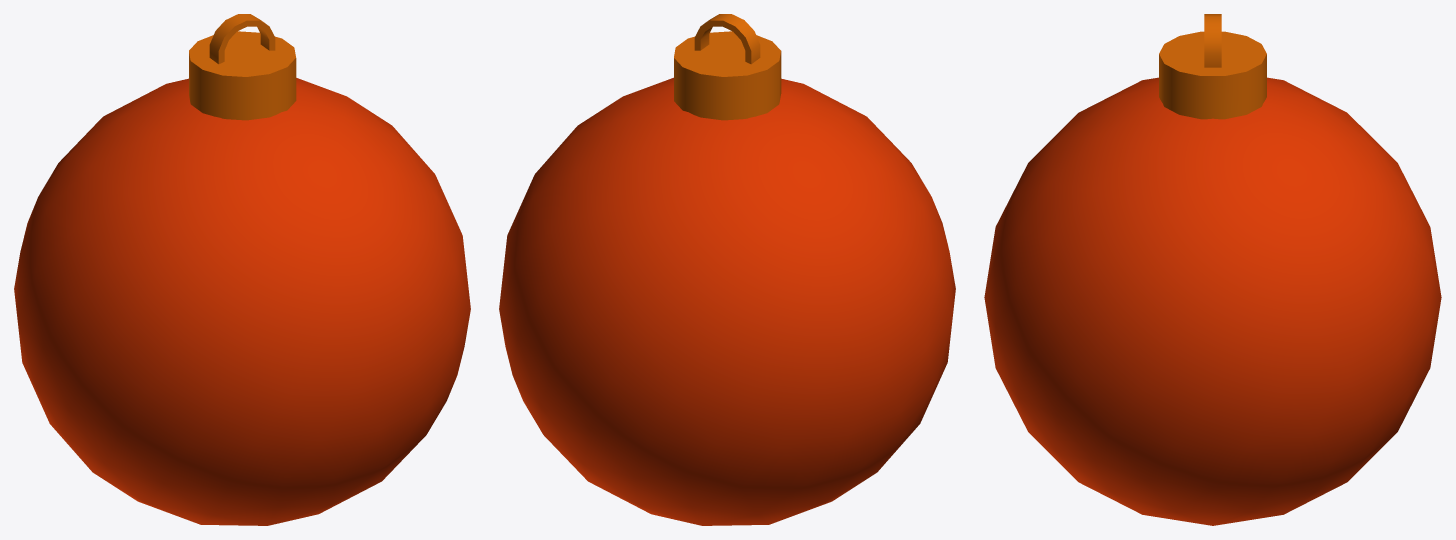
File: ball.glb
The picture shows the model from 3 angles, left to right: view 1: azimuth 30°, elevation 25°; view 2: azimuth 150°, elevation 25°; view 3: azimuth 270°, elevation 25°; orthographic projection.
Visible parts, largest first — view 1: ball; view 2: ball; view 3: ball.
Part boxes in pixels (x1,y1,x2,y2): ball: (14,14,470,525); ball: (499,14,955,525); ball: (984,14,1441,525).
Bounding box in the file's own units: 2 × 2.35 × 2.
